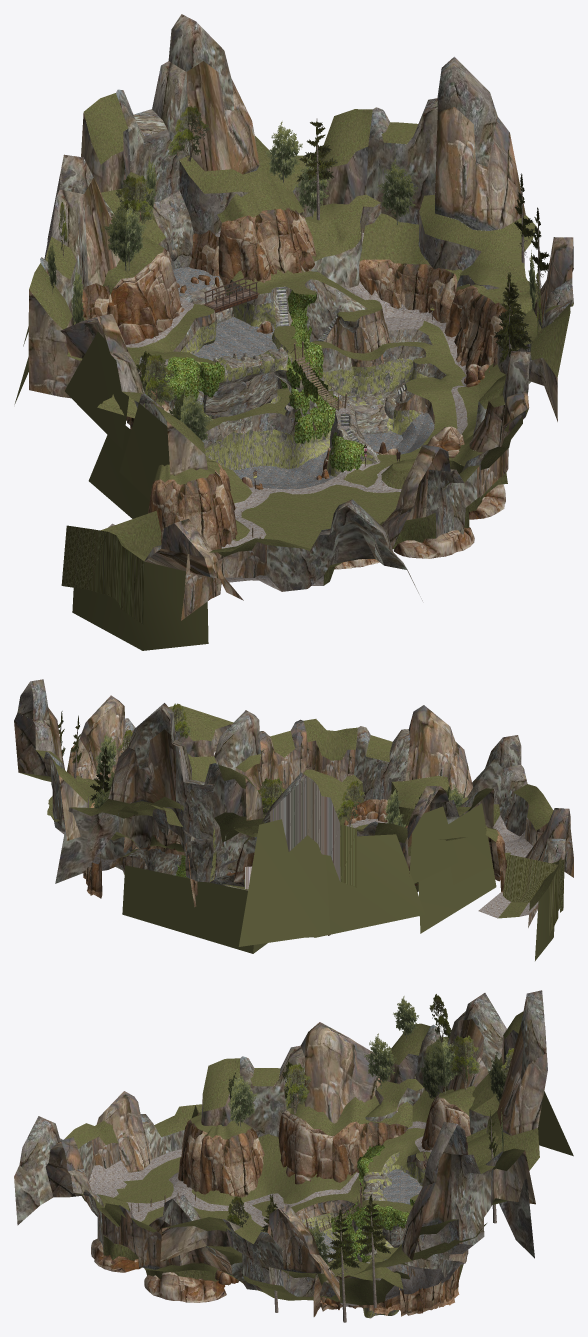
File: physics-scene.glb
3 renders of one model, top to bottom at view 1: azimuth 30°, elevation 25°; view 2: azimuth 150°, elevation 25°; view 3: azimuth 270°, elevation 25°, orthographic. The views are drawn at different scales.
Parts seen in each view (by area): view 1: rock3, rock04, ground.004, ground.002, rock2, rock-mesh, small-tree, ground, rock4.002, rock4.003, grass2.001, small-rock.001 (+17 smaller); view 2: ground.002, rock04, rock3, ground.004, rock4.002, rock2, small-tree2, ground2, ground.005, small-tree, rock-mesh, ground (+3 smaller); view 3: rock3, rock04, ground.004, rock2, rock-mesh, ground.002, ground, ground2, small-tree, small-tree2, grass.002, grass.003 (+8 smaller).
Part boxes in pixels (<box>): rock3: <box>28,61,573,620</box>; rock04: <box>40,14,573,600</box>; ground.004: <box>29,93,573,624</box>; ground.002: <box>14,269,465,650</box>; rock2: <box>82,207,512,550</box>; rock-mesh: <box>107,248,505,569</box>; small-tree: <box>47,121,536,440</box>; ground: <box>97,170,540,484</box>; rock4.002: <box>134,109,389,435</box>; rock4.003: <box>173,279,446,448</box>; grass2.001: <box>190,322,411,470</box>; small-rock.001: <box>173,267,416,487</box>; ground.002: <box>122,803,554,960</box>; rock04: <box>17,679,565,883</box>; rock3: <box>14,695,573,927</box>; ground.004: <box>19,705,569,935</box>; rock4.002: <box>183,779,244,886</box>; rock2: <box>83,802,506,935</box>; small-tree2: <box>118,703,421,826</box>; ground2: <box>57,815,538,918</box>; ground.005: <box>503,854,558,902</box>; small-tree: <box>91,731,464,839</box>; rock-mesh: <box>234,799,418,886</box>; ground: <box>47,775,498,855</box>; rock3: <box>45,1019,547,1301</box>; rock04: <box>14,990,546,1297</box>; ground.004: <box>64,1011,539,1305</box>; rock2: <box>178,1086,468,1316</box>; rock-mesh: <box>91,1094,471,1306</box>; ground.002: <box>114,1085,573,1279</box>; ground: <box>190,1085,508,1288</box>; ground2: <box>88,1111,477,1306</box>; small-tree: <box>227,996,506,1277</box>; small-tree2: <box>225,994,514,1278</box>; grass.002: <box>336,1145,415,1262</box>; grass.003: <box>331,1145,408,1261</box>.
Bounding box in the file's own units: 85.13 × 56.62 × 89.04.
16 materials, 16 textured.
